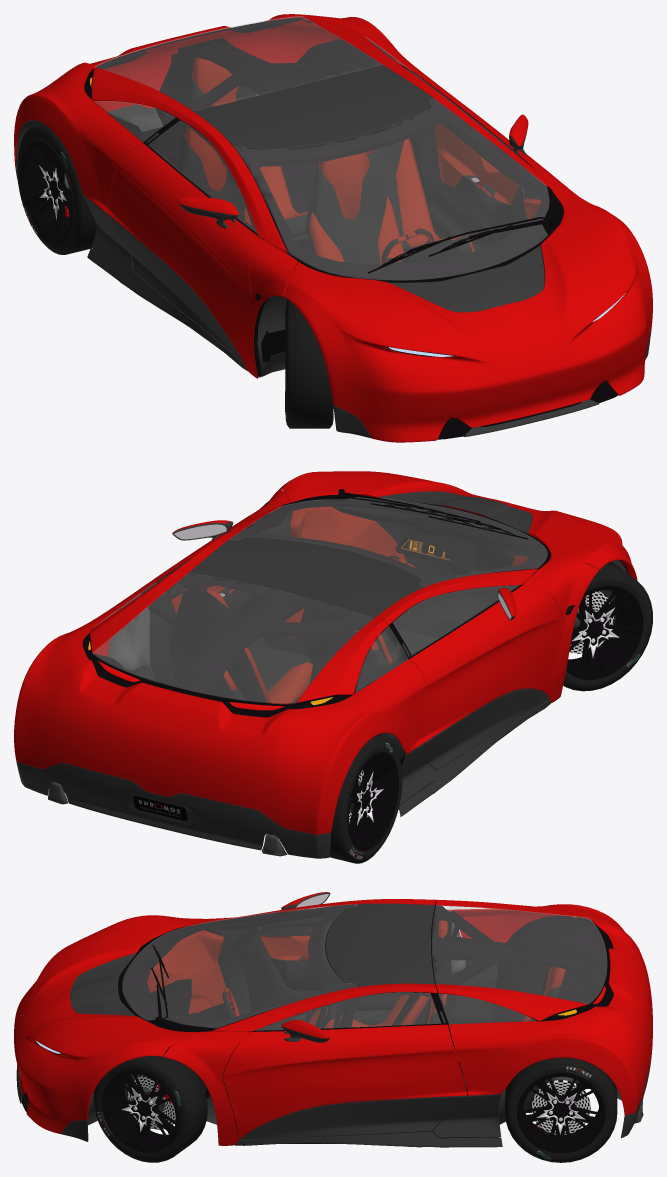
File: carro-v1.glb
3 views of the same model, one above another, from view 1: azimuth 30°, elevation 25°; view 2: azimuth 150°, elevation 25°; view 3: azimuth 270°, elevation 25° (orthographic). The views are drawn at different scales.
Parts seen in each view (by area): view 1: BodyHood, BodyWindshield, BodyRearPanelsColor1, BodyRearwindow, BodyDoorRColor1, BodyRoofPanel, BodyWindshieldGasket, InteriorSeatsColor1, InteriorSeatsColor2, BodyPillars, InteriorPillar, BodyPanelsColor2 (+19 smaller); view 2: BodyRearPanelsColor1, BodyRearwindow, BodyWindshield, BodyDoorRColor1, BodyPanelsColor2, BodyRoofPanel, InteriorPillar, BodyHood, BodyPillars, InteriorDashMid, BodyWindshieldGasket, WheelFrontRRim (+21 smaller); view 3: BodyRearPanelsColor1, BodyWindshield, BodyDoorLColor1, BodyHood, BodyRearwindow, BodyRoofPanel, BodyPillars, BodyWindshieldGasket, BodyDoorLColor2, InteriorFloor, BodyPanelsColor2, InteriorPillar (+23 smaller).
Boxes of the visible parts, x1=… form: BodyHood: x1=283, y1=198, x2=652, y2=442; BodyWindshield: x1=234, y1=98, x2=549, y2=280; BodyRearPanelsColor1: x1=14, y1=14, x2=428, y2=210; BodyRearwindow: x1=95, y1=16, x2=382, y2=110; BodyDoorRColor1: x1=104, y1=143, x2=257, y2=362; BodyRoofPanel: x1=193, y1=65, x2=432, y2=150; BodyWindshieldGasket: x1=234, y1=99, x2=563, y2=282; InteriorSeatsColor1: x1=185, y1=57, x2=474, y2=264; InteriorSeatsColor2: x1=180, y1=78, x2=471, y2=264; BodyPillars: x1=176, y1=61, x2=598, y2=378; InteriorPillar: x1=155, y1=37, x2=434, y2=169; BodyPanelsColor2: x1=15, y1=93, x2=651, y2=438; BodyRearPanelsColor1: x1=14, y1=569, x2=425, y2=834; BodyRearwindow: x1=92, y1=573, x2=373, y2=703; BodyWindshield: x1=229, y1=497, x2=547, y2=587; BodyDoorRColor1: x1=409, y1=585, x2=562, y2=742; BodyPanelsColor2: x1=16, y1=700, x2=550, y2=858; BodyRoofPanel: x1=189, y1=537, x2=422, y2=617; InteriorPillar: x1=171, y1=574, x2=417, y2=701; BodyHood: x1=279, y1=471, x2=637, y2=580; BodyPillars: x1=175, y1=489, x2=599, y2=702; InteriorDashMid: x1=331, y1=503, x2=528, y2=623; BodyWindshieldGasket: x1=230, y1=497, x2=550, y2=587; WheelFrontRRim: x1=566, y1=585, x2=643, y2=679; BodyRearPanelsColor1: x1=436, y1=899, x2=652, y2=1115; BodyWindshield: x1=122, y1=904, x2=357, y2=1028; BodyDoorLColor1: x1=222, y1=1024, x2=467, y2=1139; BodyHood: x1=14, y1=915, x2=196, y2=1133; BodyRearwindow: x1=432, y1=905, x2=606, y2=1003; BodyRoofPanel: x1=326, y1=903, x2=434, y2=986; BodyPillars: x1=163, y1=899, x2=437, y2=1145; BodyWindshieldGasket: x1=118, y1=905, x2=357, y2=1032; BodyDoorLColor2: x1=240, y1=1096, x2=467, y2=1140; InteriorFloor: x1=19, y1=915, x2=642, y2=1143; BodyPanelsColor2: x1=16, y1=1050, x2=652, y2=1147; InteriorPillar: x1=322, y1=911, x2=613, y2=1027.
Bounding box in the file's own units: 2.54 × 1.15 × 4.36.
Materials: 22 (6 with a texture image).
